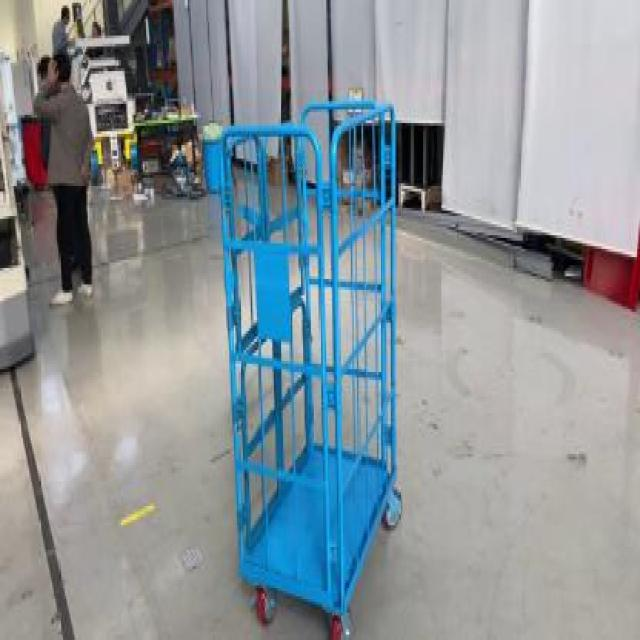cart: (222, 90, 404, 638)
person: (35, 44, 94, 306), (28, 58, 82, 274), (43, 3, 74, 93), (88, 19, 108, 104)
